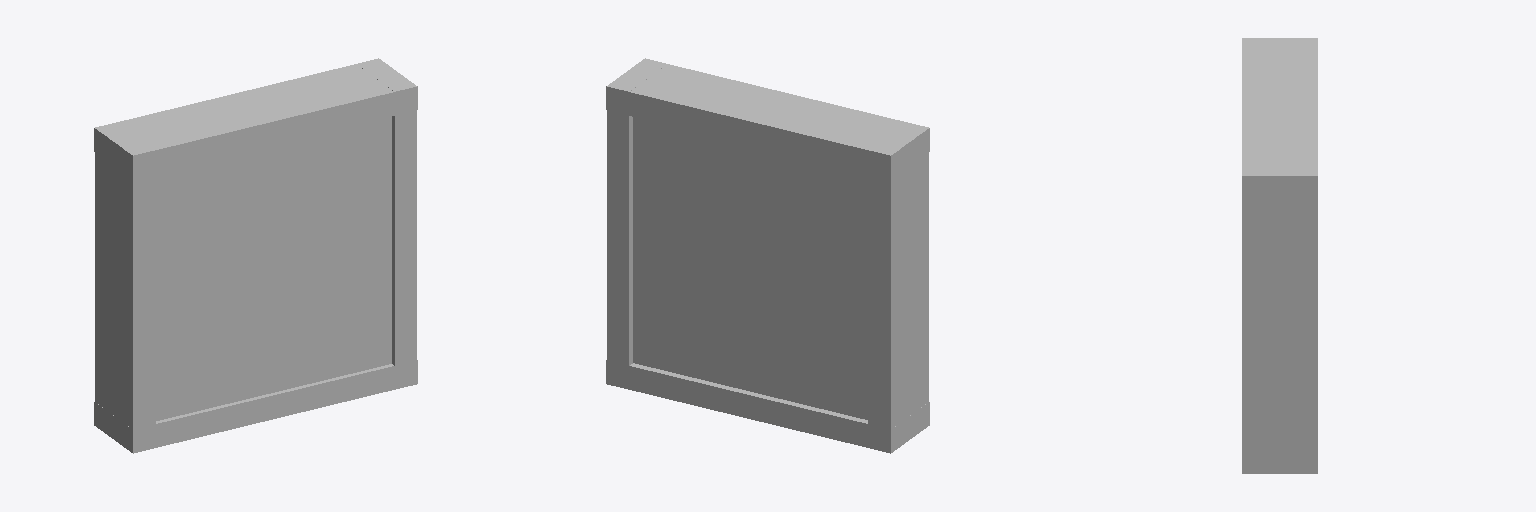
The model's file is window.obj.
3 renders of one model, left to right at view 1: azimuth 30°, elevation 25°; view 2: azimuth 150°, elevation 25°; view 3: azimuth 270°, elevation 25°, orthographic.
Visible parts, largest first — view 1: Portal_Cube, Cube.002_Cube.003; view 2: Portal_Cube, Cube.002_Cube.003; view 3: Cube.002_Cube.003.
Boxes of the visible parts, x1=… form: Portal_Cube: x1=156, y1=117, x2=391, y2=420; Cube.002_Cube.003: x1=94, y1=58, x2=417, y2=453; Portal_Cube: x1=633, y1=117, x2=867, y2=419; Cube.002_Cube.003: x1=606, y1=58, x2=929, y2=453; Cube.002_Cube.003: x1=1242, y1=38, x2=1317, y2=473.
Size of the model in its own units: 6.48 by 6.48 by 1.51.